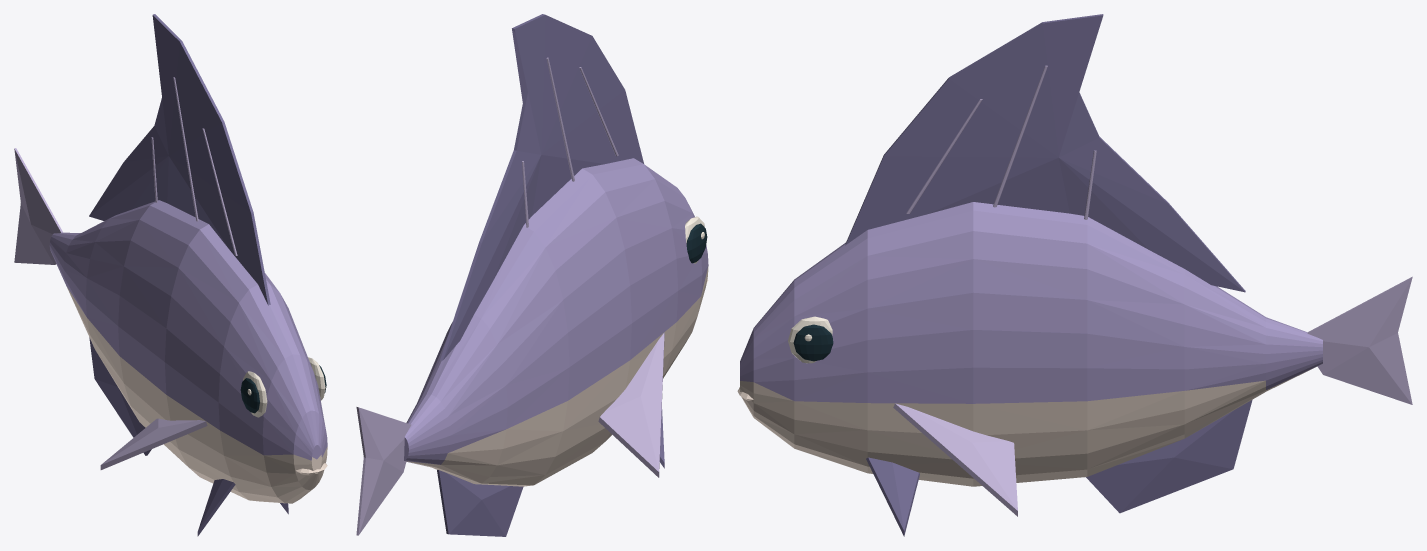
The model's file is dorypterus.glb.
The picture shows the model from 3 angles, left to right: view 1: azimuth 30°, elevation 25°; view 2: azimuth 150°, elevation 25°; view 3: azimuth 270°, elevation 25°; orthographic projection. The views are drawn at different scales.
Parts seen in each view (by area): view 1: deep-compressed-body, high-pennant-dorsal, small-caudal, left-pectoral, anal-fin, left-jugular-pelvic, left-eye, left-eye-rim, sail-ray-1--1; view 2: deep-compressed-body, high-pennant-dorsal, left-pectoral, anal-fin, small-caudal, left-eye; view 3: deep-compressed-body, high-pennant-dorsal, small-caudal, anal-fin, right-pectoral, right-jugular-pelvic, right-eye.
Part boxes in pixels (x1,y1,x2,y2): deep-compressed-body: (49,200,327,503); high-pennant-dorsal: (89,14,270,305); small-caudal: (14,148,62,264); left-pectoral: (100,418,207,469); anal-fin: (89,337,151,455); left-jugular-pelvic: (197,479,235,536); left-eye: (240,378,259,413); left-eye-rim: (243,371,267,417); sail-ray-1--1: (173,77,198,221); deep-compressed-body: (404,158,708,486); high-pennant-dorsal: (440,14,643,360); left-pectoral: (598,332,664,477); anal-fin: (437,470,523,536); small-caudal: (356,407,411,535); left-eye: (686,223,707,263); deep-compressed-body: (740,202,1322,486); high-pennant-dorsal: (845,14,1245,292); small-caudal: (1307,276,1412,404); anal-fin: (1086,400,1252,513); right-pectoral: (893,403,1017,516); right-jugular-pelvic: (866,457,919,536); right-eye: (793,324,833,361).
Bounding box in the file's own units: 0.0348 × 0.0811 × 0.0996.
